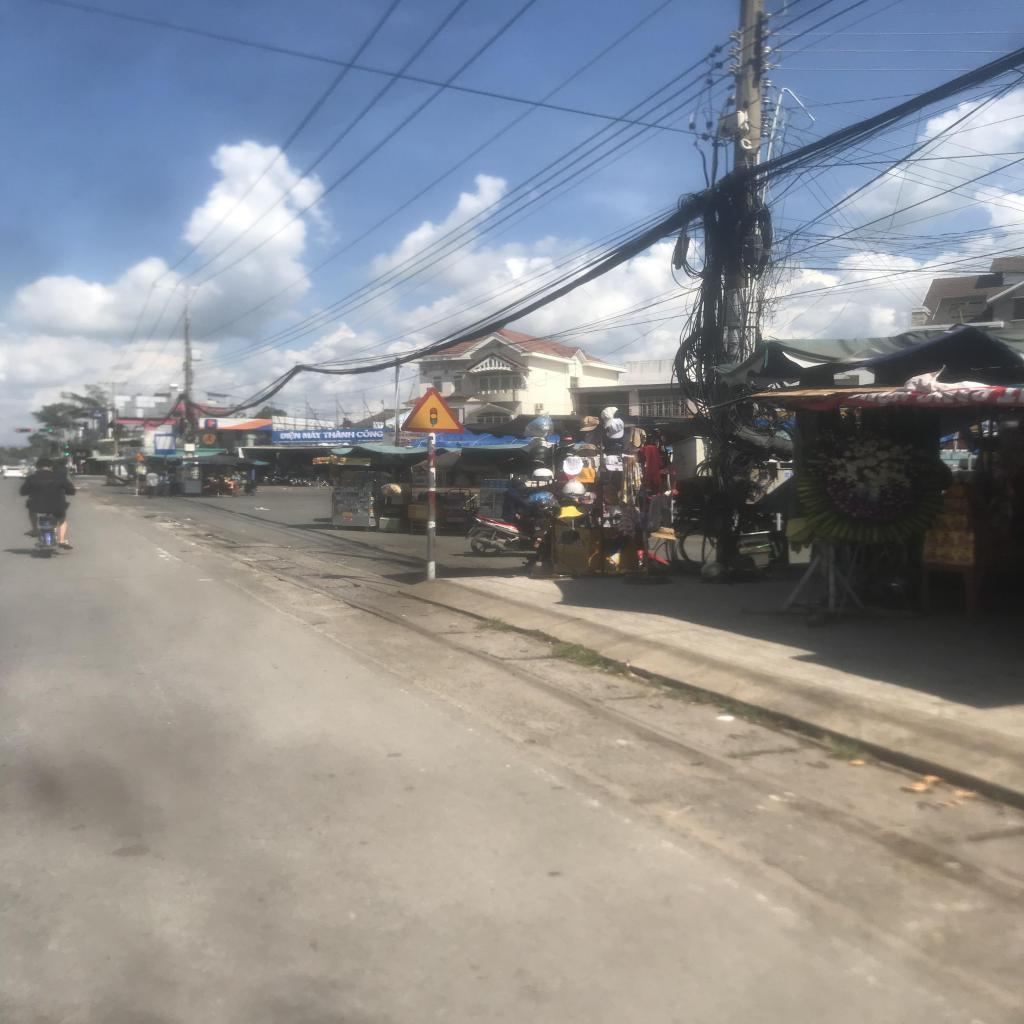giao_nhau_co_tin_hieu_den: (394, 384, 470, 435)
